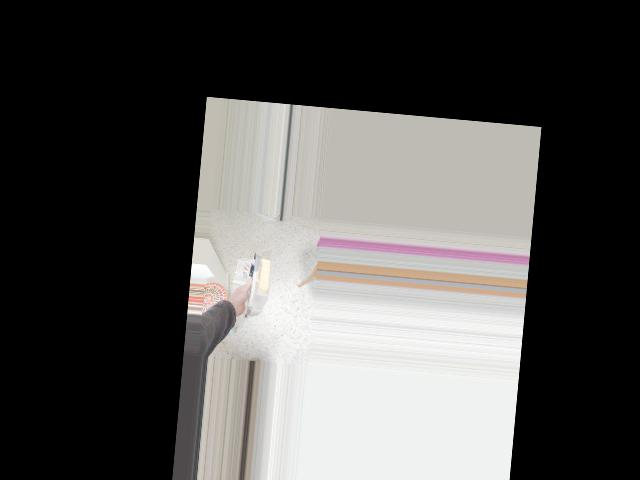cheese: (214, 256, 287, 331)
